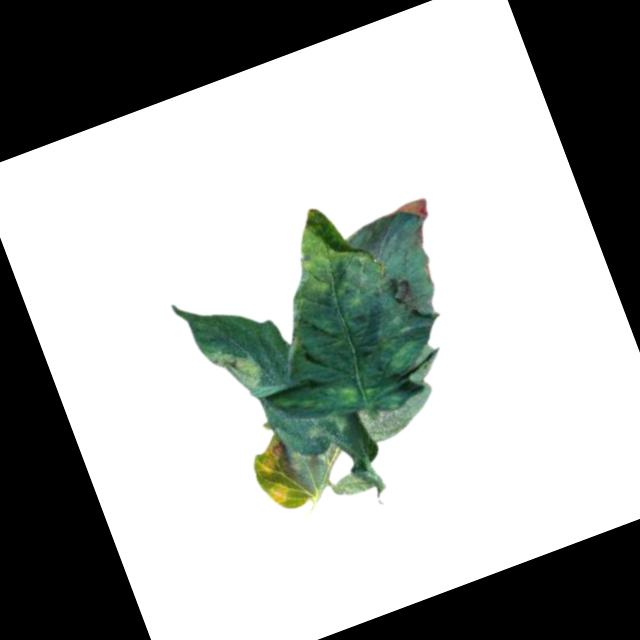Leaf_Mold: (243, 431, 309, 517), (204, 337, 270, 403), (347, 391, 420, 449), (379, 262, 441, 329)
